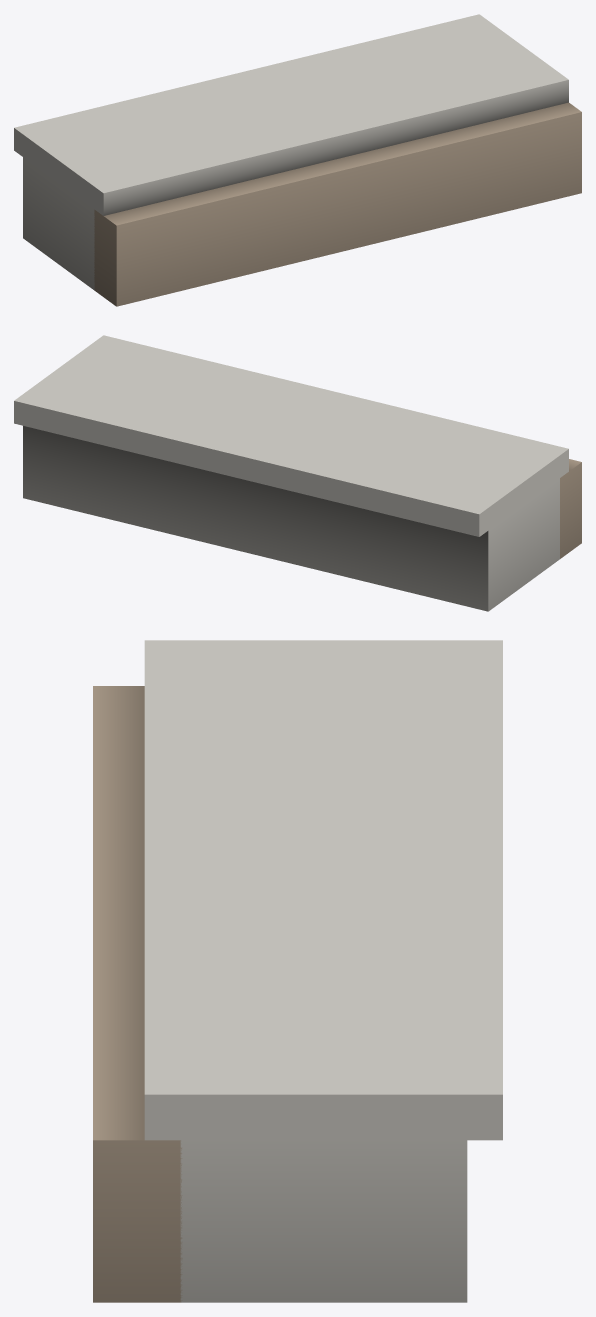
Rendered from pond_edge.lod1.glb.
3 renders of one model, top to bottom at view 1: azimuth 30°, elevation 25°; view 2: azimuth 150°, elevation 25°; view 3: azimuth 270°, elevation 25°, orthographic. The views are drawn at different scales.
Visible parts, largest first — view 1: props_pond_edge.lod1; view 2: props_pond_edge.lod1; view 3: props_pond_edge.lod1.
Boxes of the visible parts, x1=… form: props_pond_edge.lod1: x1=14, y1=14, x2=581, y2=306; props_pond_edge.lod1: x1=14, y1=335, x2=581, y2=611; props_pond_edge.lod1: x1=93, y1=640, x2=502, y2=1302.
Size of the model in its own units: 3 by 0.64 by 1.14.
